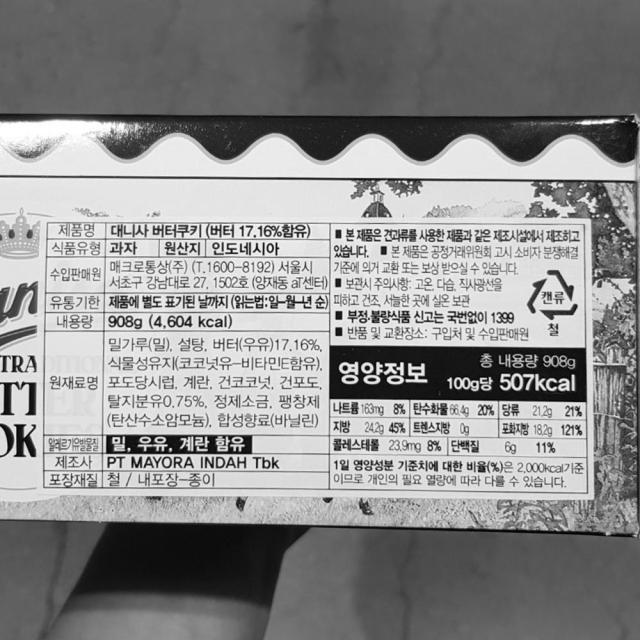Nutrition Label: (322, 338, 594, 504)
